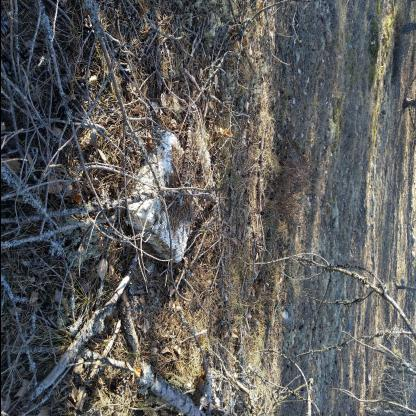kopuk: (127, 132, 199, 264)
